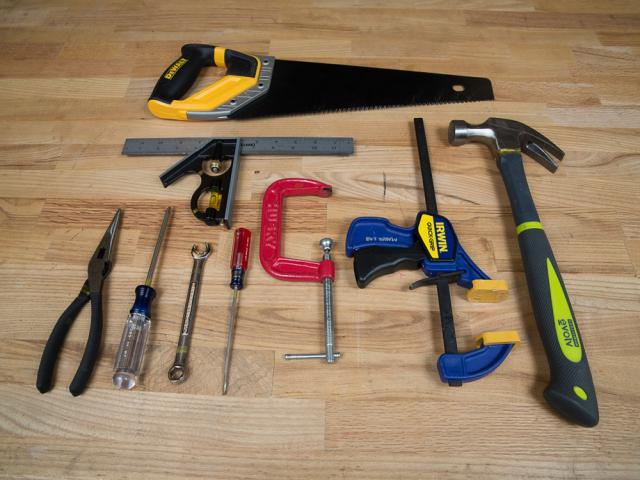Hammer: (449, 118, 599, 427)
Handsaw: (149, 44, 494, 120)
Needle-nose pliers: (36, 208, 121, 396)
Screwdriver: (112, 207, 171, 389), (222, 228, 251, 394)
Wrench: (168, 243, 211, 383)
